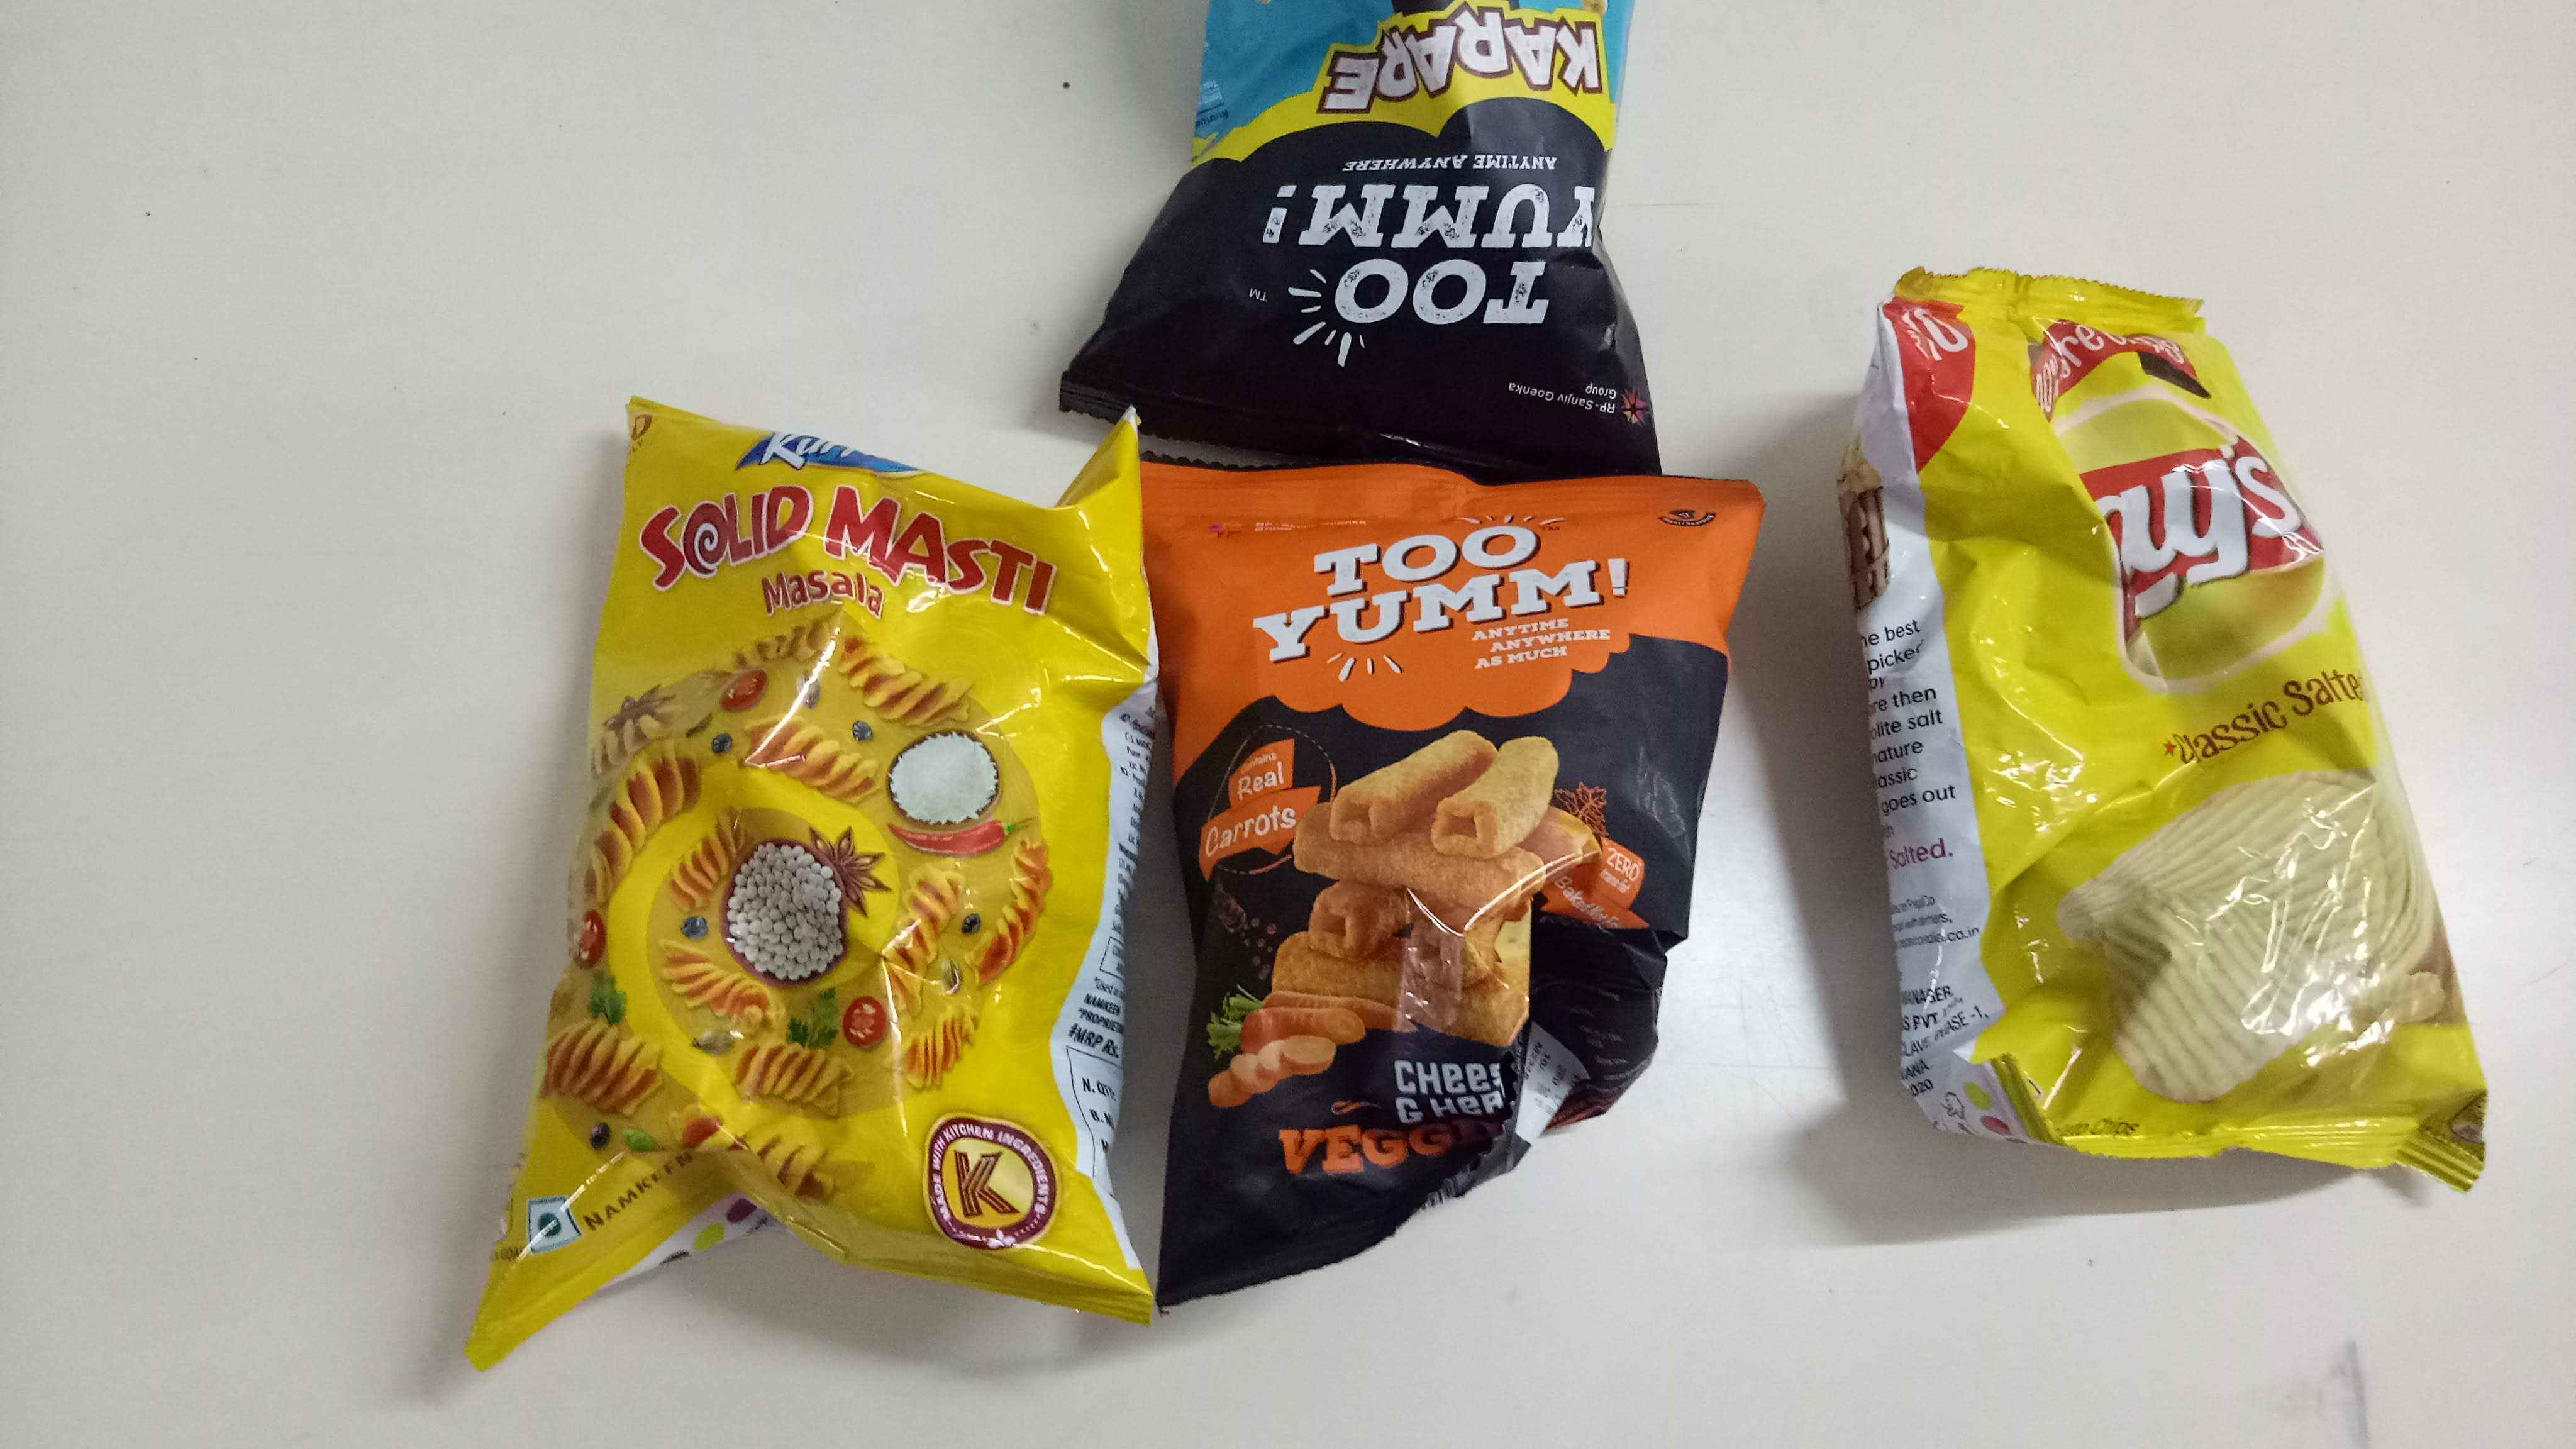Lays: (2019, 387, 2321, 697)
kurkure: (743, 418, 977, 492)
tooyumm: (1210, 157, 1647, 372), (1258, 510, 1638, 678)
